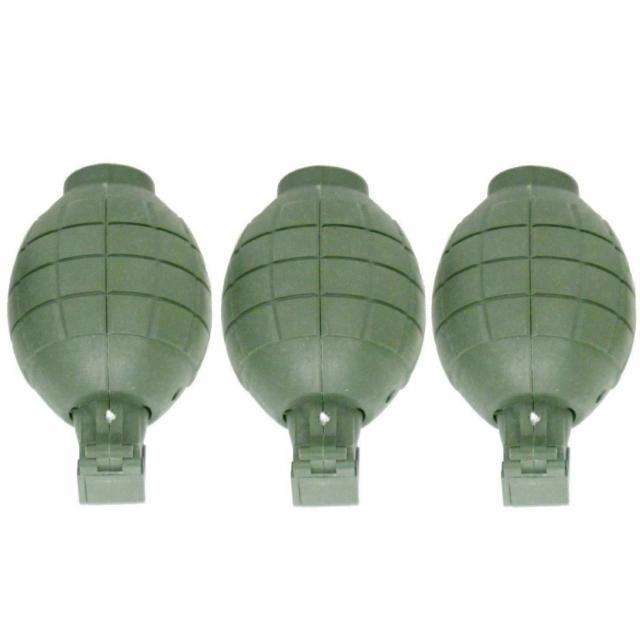grenade: (8, 166, 213, 506), (433, 168, 639, 506), (224, 167, 427, 507)
